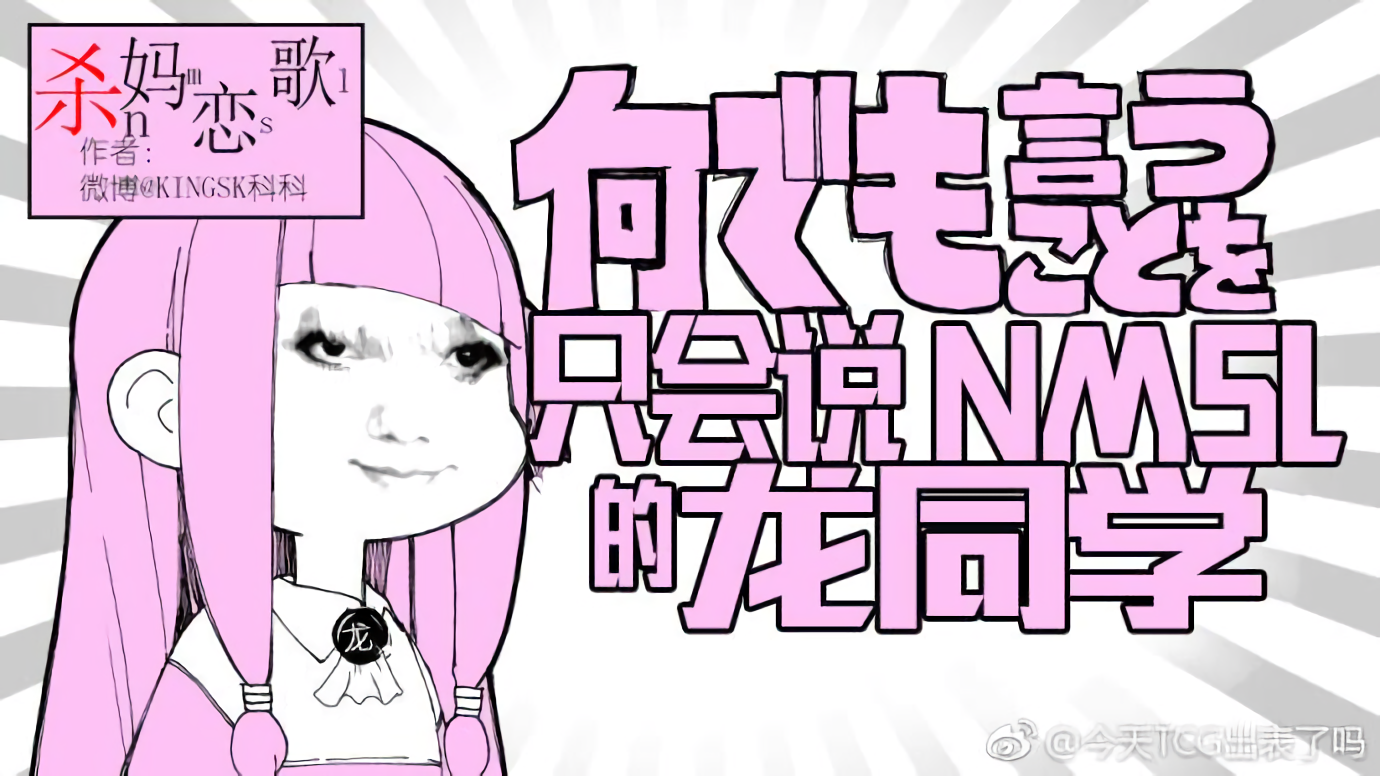dragon: (280, 298, 514, 508)
